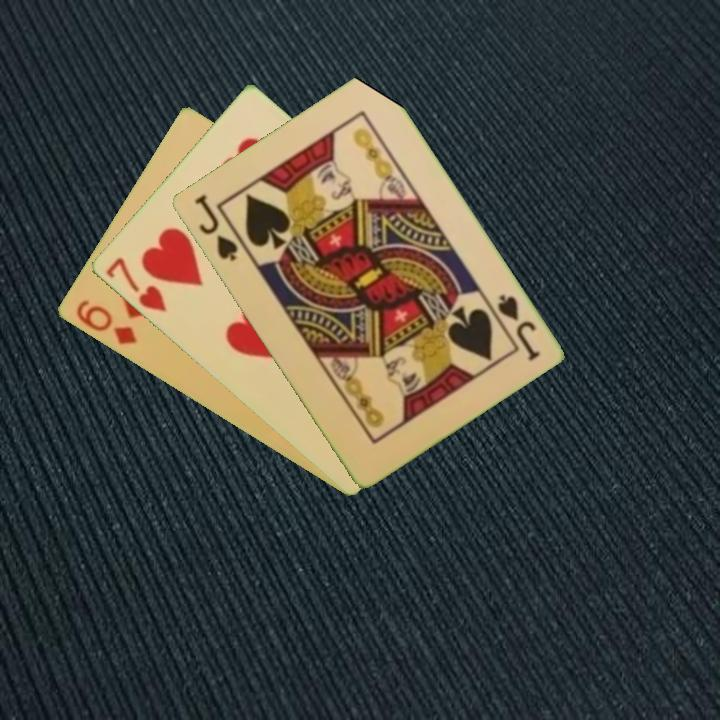6d: (71, 296, 140, 348)
7h: (101, 253, 170, 316)
Js: (190, 190, 241, 265), (493, 290, 543, 364)
